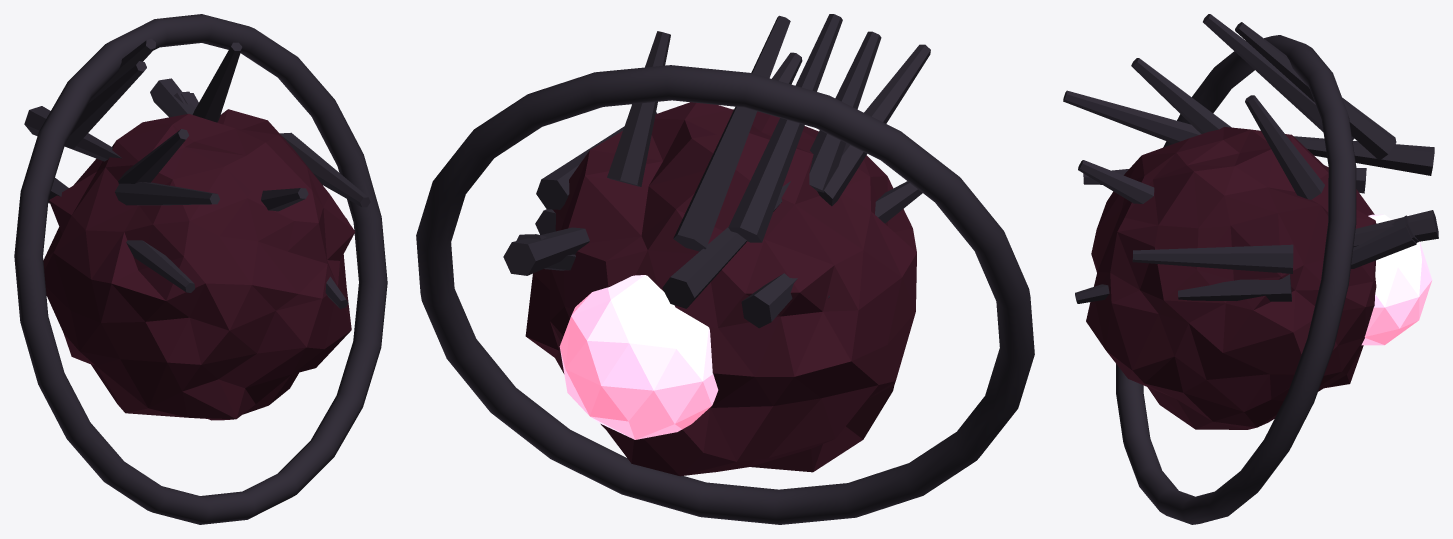
File: corruption_heart.glb
3 renders of one model, left to right at view 1: azimuth 30°, elevation 25°; view 2: azimuth 150°, elevation 25°; view 3: azimuth 270°, elevation 25°, orthographic. The views are drawn at different scales.
Visible parts, largest first — view 1: Body, Ring, Spike18, Spike20, Spike4, Spike6, Spike16, Spike10, Spike1, Spike5, Spike21, Spike8; view 2: Body, Ring, Core, Spike20, Spike8, Spike6, Spike16, Spike18, Spike1, Spike5, Spike19, Spike4 (+1 smaller); view 3: Body, Ring, Core, Spike4, Spike8, Spike6, Spike18, Spike20, Spike1, Spike2, Spike16, Spike14 (+3 smaller).
Boxes of the visible parts, left/top/right/bottom form: Body: left=43, top=109, right=354, bottom=420; Ring: left=14, top=14, right=387, bottom=524; Spike18: left=115, top=182, right=219, bottom=205; Spike20: left=64, top=61, right=146, bottom=148; Spike4: left=280, top=132, right=370, bottom=207; Spike6: left=192, top=42, right=242, bottom=122; Spike16: left=118, top=129, right=188, bottom=183; Spike10: left=126, top=240, right=195, bottom=292; Spike1: left=24, top=106, right=121, bottom=161; Spike5: left=150, top=78, right=195, bottom=117; Spike21: left=261, top=188, right=308, bottom=211; Spike8: left=92, top=38, right=155, bottom=97; Body: left=525, top=102, right=916, bottom=476; Ring: left=416, top=65, right=1034, bottom=524; Core: left=559, top=275, right=718, bottom=439; Spike20: left=728, top=14, right=842, bottom=242; Spike8: left=673, top=15, right=790, bottom=251; Spike6: left=607, top=31, right=670, bottom=186; Spike16: left=809, top=31, right=881, bottom=192; Spike18: left=817, top=44, right=930, bottom=206; Spike1: left=662, top=181, right=790, bottom=308; Spike5: left=503, top=227, right=589, bottom=275; Spike19: left=741, top=273, right=797, bottom=328; Spike4: left=536, top=112, right=656, bottom=209; Body: left=1086, top=127, right=1376, bottom=429; Ring: left=1116, top=35, right=1356, bottom=524; Core: left=1361, top=214, right=1432, bottom=345; Spike4: left=1132, top=244, right=1293, bottom=273; Spike8: left=1235, top=22, right=1396, bottom=160; Spike6: left=1245, top=95, right=1324, bottom=199; Spike18: left=1063, top=90, right=1201, bottom=143; Spike20: left=1203, top=14, right=1354, bottom=140; Spike1: left=1293, top=136, right=1434, bottom=175; Spike2: left=1178, top=274, right=1291, bottom=301; Spike16: left=1131, top=58, right=1231, bottom=133; Spike14: left=1351, top=218, right=1416, bottom=268.
Size of the model in its own units: 48.61 by 50.05 by 38.31.
